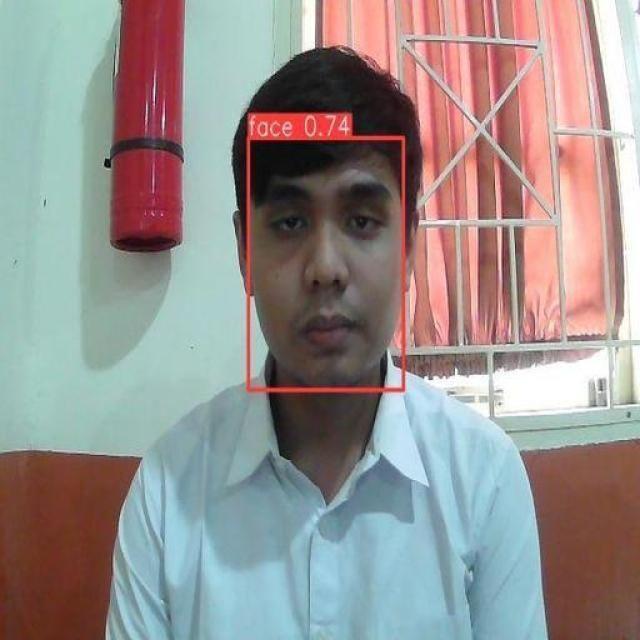bareface: (213, 90, 432, 410)
